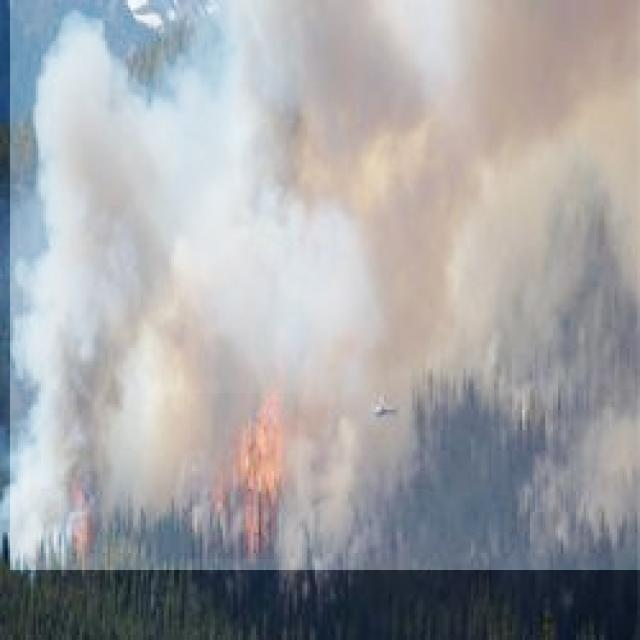Fire: (190, 393, 298, 559)
Smoke: (10, 0, 640, 570)
